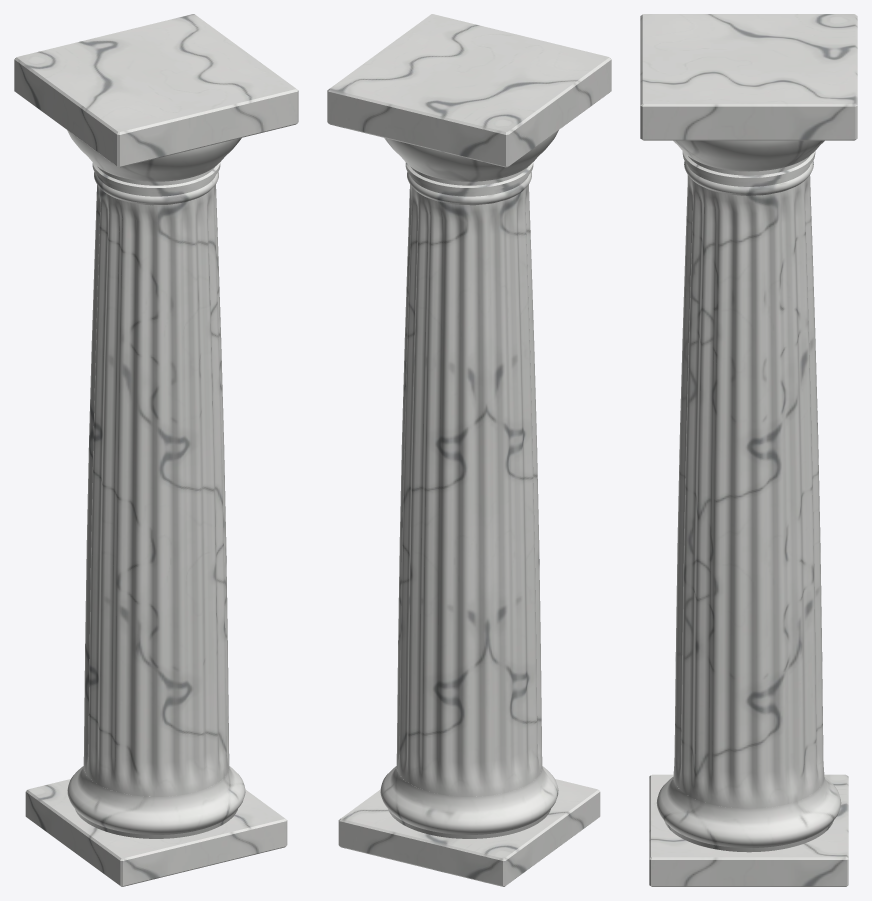
File: desktop.glb
The picture shows the model from 3 angles, left to right: view 1: azimuth 30°, elevation 25°; view 2: azimuth 150°, elevation 25°; view 3: azimuth 270°, elevation 25°; orthographic projection. The views are drawn at different scales.
Size of the model in its own units: 1 by 4 by 1.
Materials: 1 (1 with a texture image).
